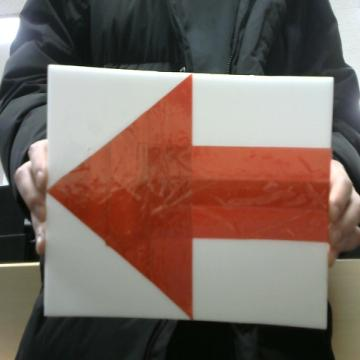red_left: (48, 75, 331, 318)
